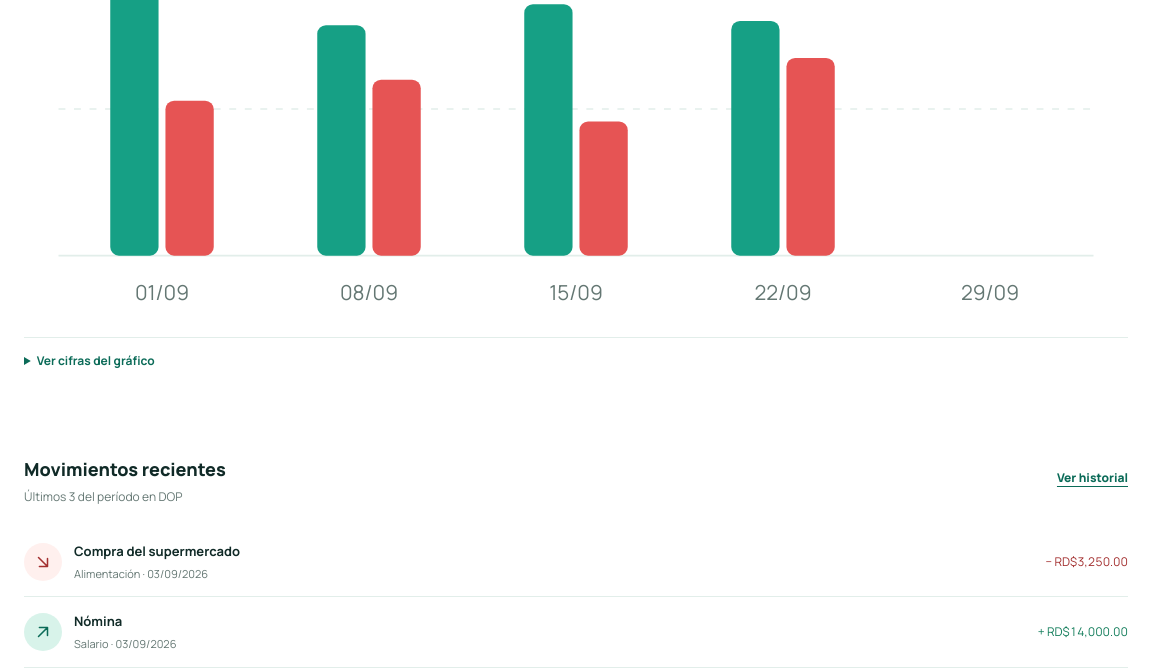
provides an exact accessible table as an alternative to bars
The width and height of the screenshot is (1152, 668).
(page scrolled)
Click the heading "Ver cifras del gráfico".
click(96, 360)  # box [37,352,155,369]
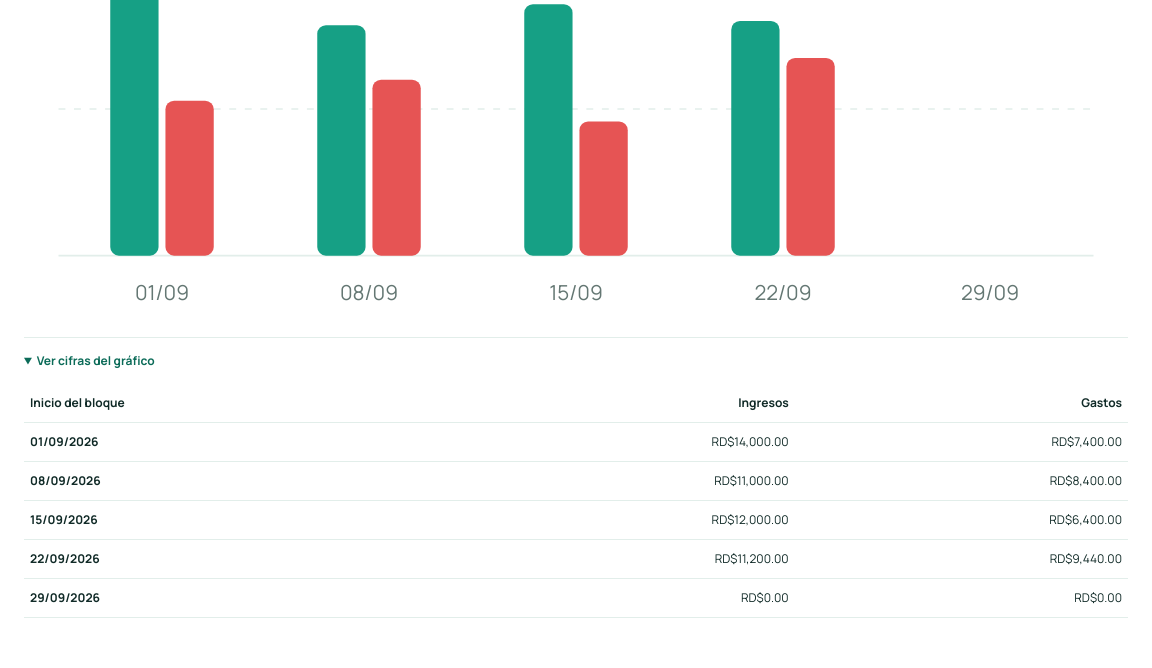
Expected: the number of rows is 6, [24,384,1128,422]; [24,423,1128,461]; [24,461,1128,500]; [24,500,1128,539]; [24,539,1128,578]; [24,578,1128,617]
